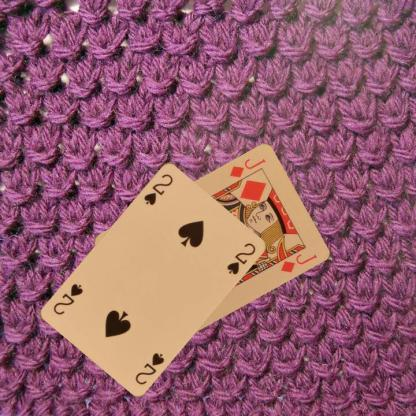2s: (132, 350, 166, 386), (141, 170, 174, 206)
Jd: (226, 156, 266, 180)
